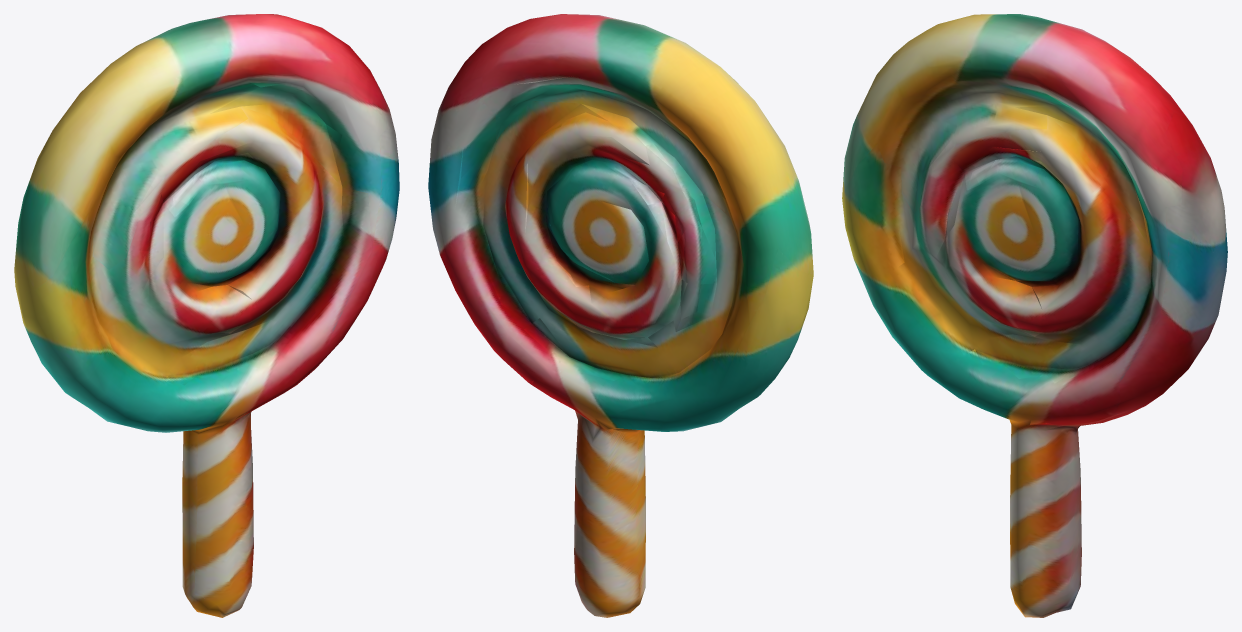
File: m2Lollipop.glb
3 views of the same model, side by side, from view 1: azimuth 30°, elevation 25°; view 2: azimuth 150°, elevation 25°; view 3: azimuth 330°, elevation 25° (orthographic).
Visible parts, largest first — view 1: model; view 2: model; view 3: model.
Boxes of the visible parts, bbox=[...] form: model: bbox=[14, 14, 399, 617]; model: bbox=[428, 14, 813, 617]; model: bbox=[842, 14, 1227, 617].
Bounding box in the file's own units: 1.26 × 1.9 × 0.2477.
Materials: 1 (1 with a texture image).
